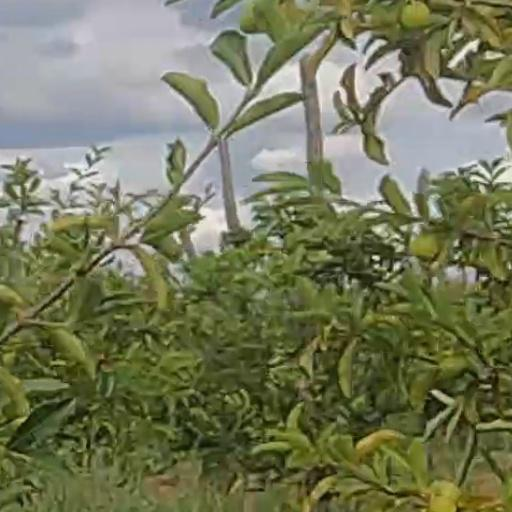acerola: (428, 479, 456, 512), (402, 3, 432, 30), (412, 233, 437, 258)
